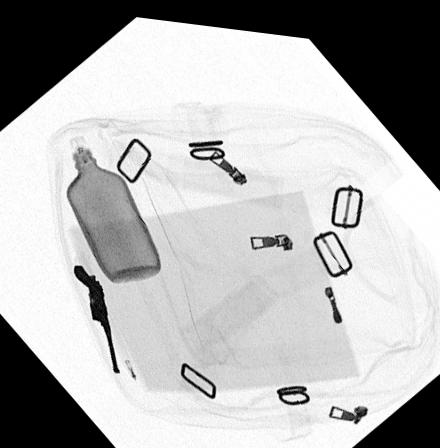Gun: (74, 262, 122, 372)
